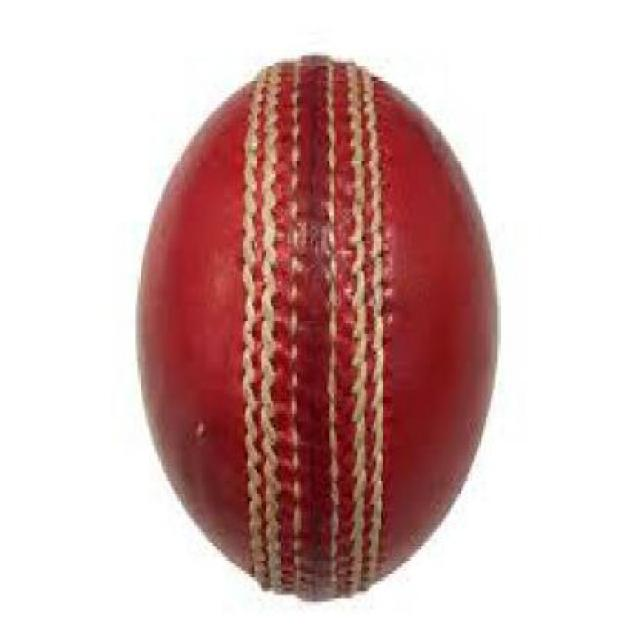ball: (110, 23, 514, 618)
